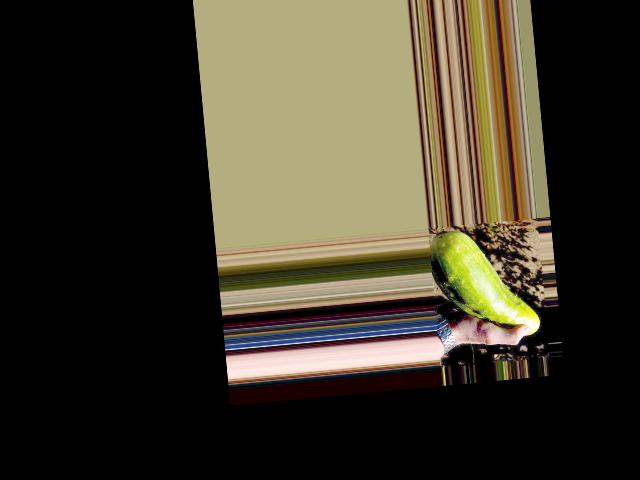cucumber: (427, 222, 540, 343)
